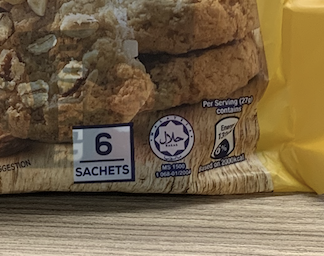halal: (154, 118, 188, 159)
